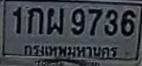1: (12, 6, 21, 33)
3: (104, 9, 117, 35)
6: (120, 9, 135, 35)
7: (88, 8, 102, 35)
9: (71, 8, 84, 34)
A01: (27, 7, 43, 33)
A28: (46, 7, 63, 34)
BKK: (20, 42, 121, 60)
